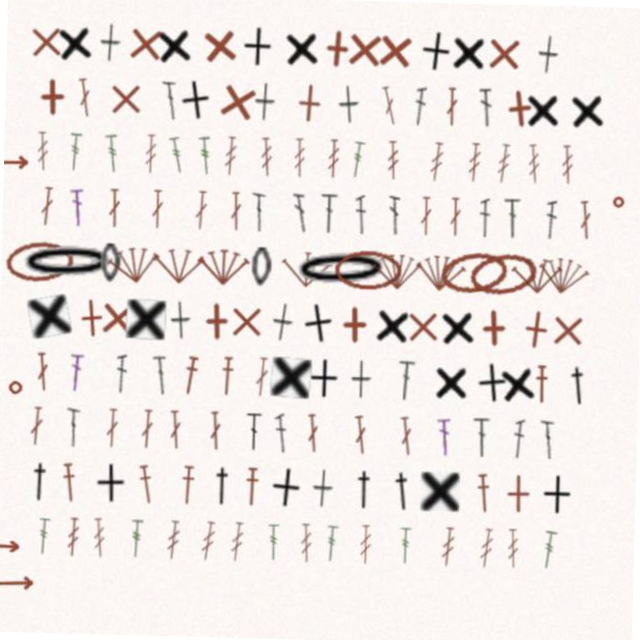chain: (290, 247, 390, 291), (17, 248, 116, 290), (466, 244, 539, 294), (437, 244, 508, 293), (3, 246, 74, 291), (333, 249, 401, 288), (99, 249, 119, 288), (250, 249, 270, 288)
double: (373, 84, 395, 124), (398, 359, 417, 398), (70, 84, 88, 124), (156, 84, 174, 124), (501, 194, 519, 233), (476, 414, 494, 453), (153, 359, 170, 399), (355, 414, 372, 454), (401, 414, 418, 454), (318, 194, 335, 233), (36, 359, 52, 399), (473, 84, 489, 123), (36, 194, 52, 233), (575, 194, 591, 233), (249, 414, 265, 453), (308, 414, 324, 453), (543, 414, 559, 453), (277, 414, 292, 454), (67, 194, 82, 233), (191, 194, 206, 233), (290, 194, 305, 233), (70, 359, 85, 398), (256, 359, 271, 398), (32, 414, 47, 453), (171, 414, 186, 453), (211, 414, 226, 453), (440, 414, 455, 453), (226, 194, 240, 233), (249, 194, 263, 233), (69, 414, 83, 453), (108, 414, 122, 453), (143, 414, 157, 453), (408, 84, 421, 123), (440, 84, 453, 123), (105, 194, 118, 233), (148, 194, 161, 233), (352, 194, 365, 233), (417, 194, 430, 233), (446, 194, 459, 233), (516, 414, 528, 453), (386, 194, 397, 233), (477, 194, 488, 233), (543, 194, 554, 233), (118, 359, 128, 398)
fan: (104, 246, 161, 292), (534, 246, 590, 291), (413, 248, 466, 290), (279, 248, 332, 289), (196, 249, 248, 289), (510, 249, 562, 289), (152, 249, 204, 288), (370, 249, 422, 288)
half_double: (568, 359, 592, 399), (32, 469, 56, 509), (395, 469, 419, 509), (215, 469, 238, 508), (357, 469, 380, 508), (140, 469, 161, 509), (182, 359, 202, 399), (64, 469, 83, 509), (479, 469, 497, 509), (221, 359, 237, 398), (184, 469, 200, 508), (536, 359, 551, 398), (249, 469, 264, 508)
noise: (4, 583, 42, 599), (0, 163, 26, 177), (0, 549, 27, 560), (9, 387, 25, 403), (609, 188, 622, 201)
single: (209, 81, 255, 127), (27, 301, 72, 346), (191, 27, 234, 70), (493, 82, 536, 125), (367, 28, 409, 70), (71, 303, 113, 345), (499, 357, 540, 400), (516, 303, 557, 345), (118, 28, 159, 69), (310, 28, 351, 69), (337, 28, 378, 69), (283, 83, 324, 124), (97, 303, 138, 344), (473, 303, 514, 344), (272, 358, 313, 399), (48, 28, 88, 70), (148, 28, 187, 70), (19, 29, 59, 69), (477, 29, 517, 69), (27, 84, 67, 124), (100, 84, 140, 124), (126, 304, 166, 344), (197, 304, 237, 344), (335, 304, 375, 344), (403, 304, 443, 344), (548, 304, 588, 344), (276, 28, 314, 69), (563, 83, 601, 124), (374, 303, 412, 344), (439, 303, 477, 344), (300, 302, 336, 345), (227, 304, 266, 343), (425, 469, 464, 508), (503, 469, 542, 508), (172, 82, 207, 125), (519, 84, 556, 124), (444, 29, 480, 68), (435, 359, 471, 398), (412, 28, 445, 69), (477, 358, 510, 399), (274, 468, 306, 509), (99, 469, 130, 508), (235, 29, 265, 68), (310, 359, 340, 398), (546, 469, 576, 508), (271, 303, 295, 344), (530, 29, 553, 69), (332, 84, 355, 124), (170, 304, 192, 344), (93, 29, 114, 68), (249, 84, 270, 123), (317, 469, 338, 508), (353, 359, 373, 398)
treble: (163, 139, 183, 179), (205, 524, 223, 564), (546, 524, 564, 564), (100, 139, 117, 179), (345, 139, 362, 179), (424, 139, 441, 179), (491, 139, 508, 179), (484, 524, 501, 564), (193, 139, 209, 179), (171, 524, 187, 564), (235, 524, 251, 564), (63, 139, 79, 178), (522, 139, 538, 178), (97, 524, 113, 563), (446, 524, 462, 563), (31, 139, 46, 178), (219, 139, 234, 178), (255, 139, 270, 178), (463, 139, 478, 178), (556, 139, 571, 178), (42, 524, 57, 563), (330, 524, 345, 563), (382, 139, 396, 178), (72, 524, 86, 563), (135, 524, 149, 563), (305, 524, 319, 563), (512, 524, 526, 563), (140, 139, 153, 178), (289, 139, 302, 178), (323, 139, 336, 178), (273, 524, 286, 563), (365, 524, 378, 563), (405, 524, 418, 563)
